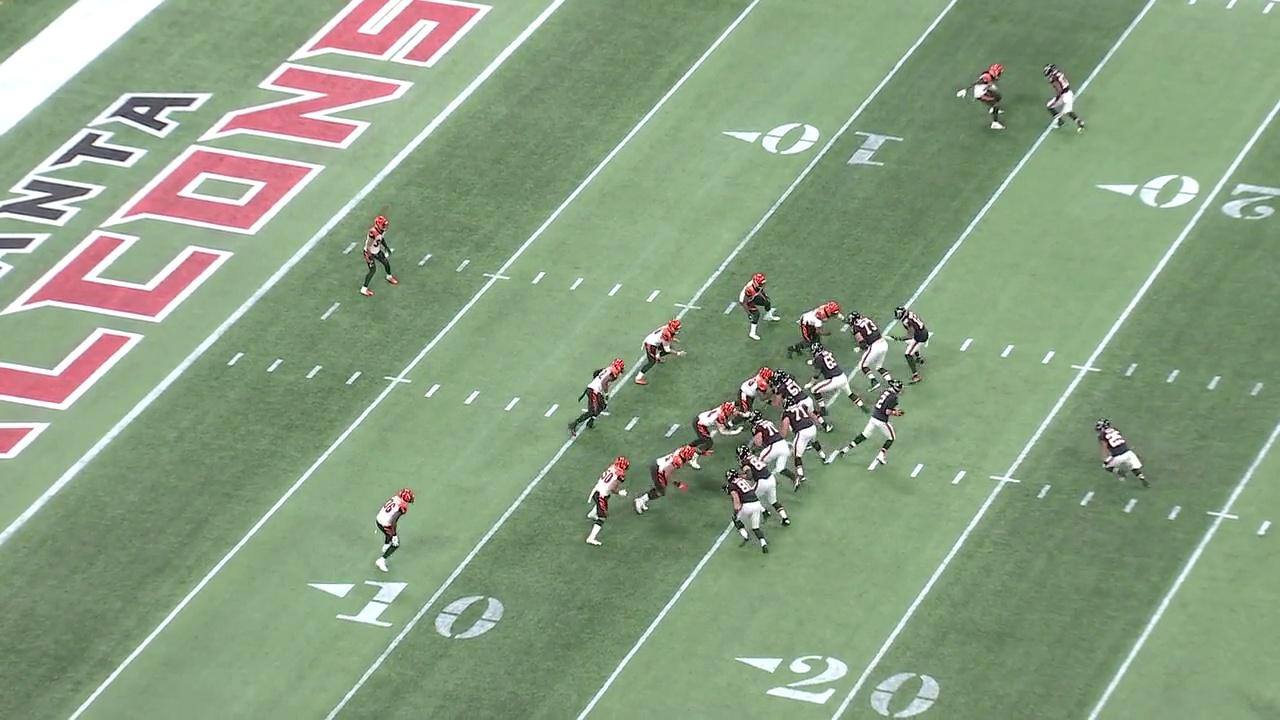player: (840, 377, 912, 468), (802, 339, 873, 415), (774, 391, 830, 487), (733, 443, 794, 530), (565, 356, 628, 440), (746, 408, 804, 494), (682, 400, 751, 471), (769, 366, 835, 437), (633, 442, 696, 516), (1094, 415, 1154, 491), (844, 309, 897, 394), (584, 455, 631, 547), (723, 467, 771, 557), (373, 485, 418, 574), (632, 316, 687, 388), (957, 61, 1011, 134), (885, 300, 931, 385), (785, 300, 846, 361), (358, 213, 400, 301), (1043, 63, 1088, 135), (736, 272, 781, 342), (728, 365, 773, 431)
